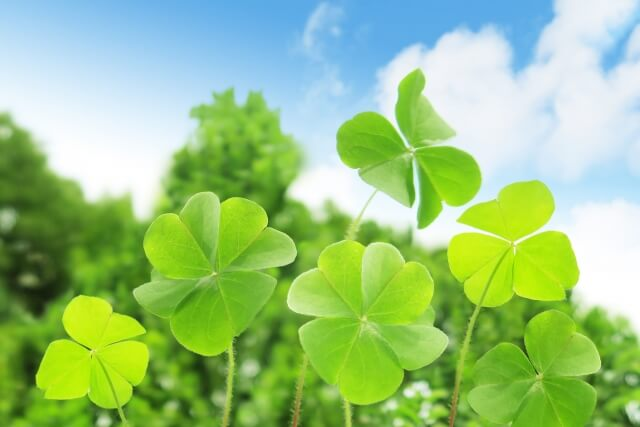daikon: (122, 170, 312, 364), (281, 225, 457, 417), (329, 68, 486, 221), (457, 297, 612, 427), (442, 199, 591, 315), (31, 292, 163, 418)
